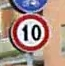limite 10: (8, 15, 50, 51)
